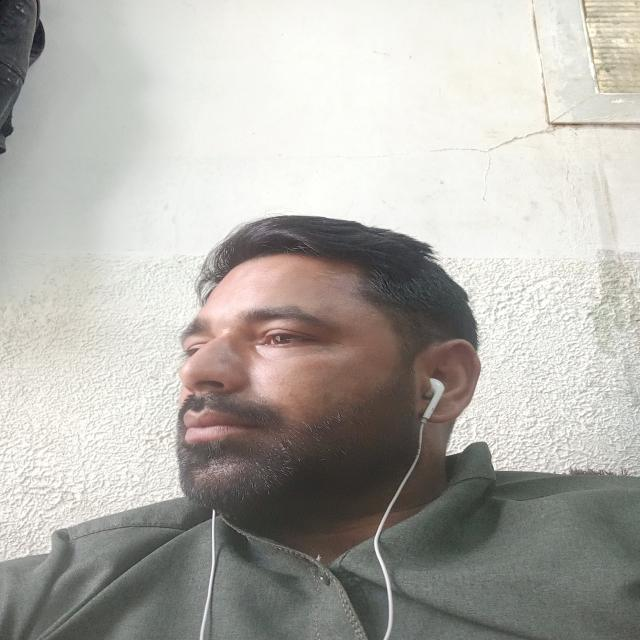Englarged-Pores: (257, 368, 309, 390), (218, 348, 236, 372)
Wrinkles: (333, 340, 373, 348), (339, 354, 370, 360), (311, 348, 326, 352)
